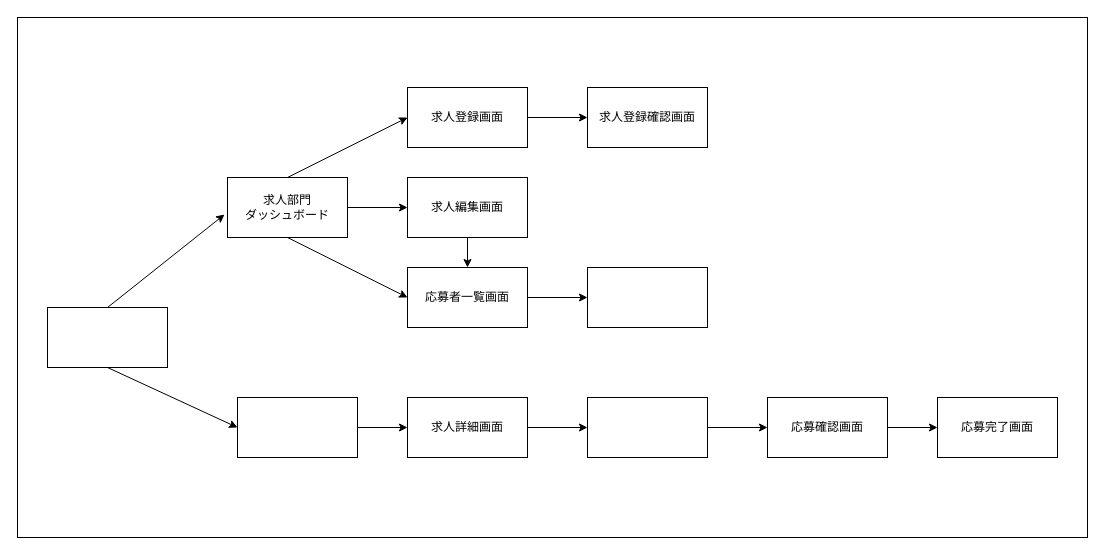
This 1105x555 diagram has some shape labels left out. The shapes that lost their labels are listed below. From the top down, each one's centre as x and y in pixels, then its label:
At [647,297]: "応募者詳細画面".
At [107,337]: "ログイン".
At [297,427]: "求人一覧画面".
At [647,427]: "応募画面".
